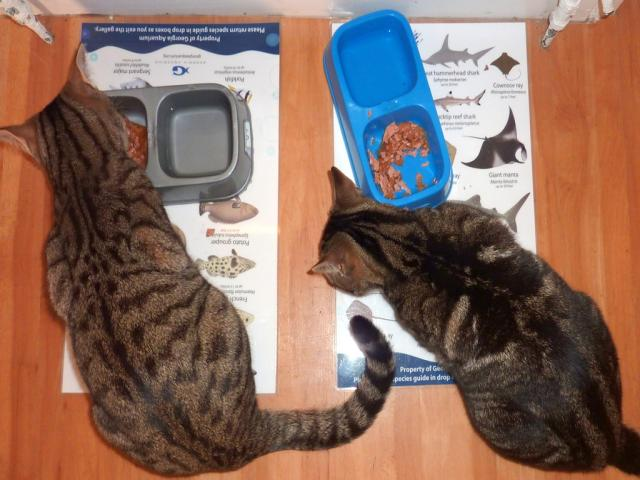Cat: (0, 43, 398, 478), (310, 162, 640, 476)
